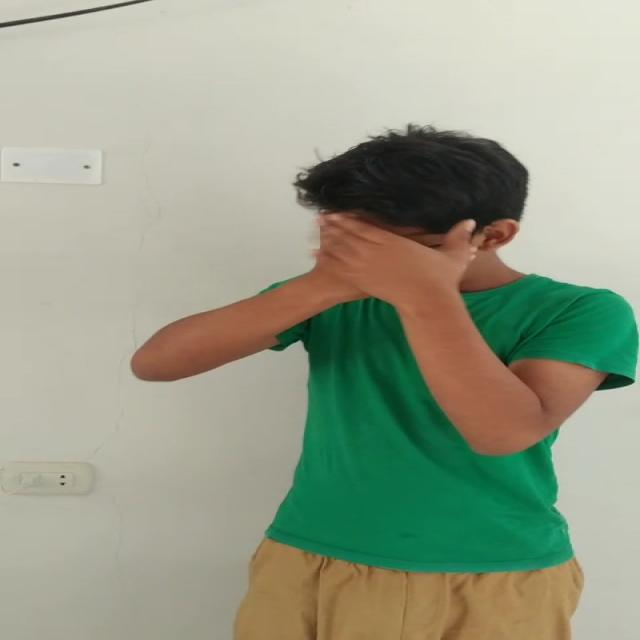7_mano_rostro: (270, 212, 478, 394)
